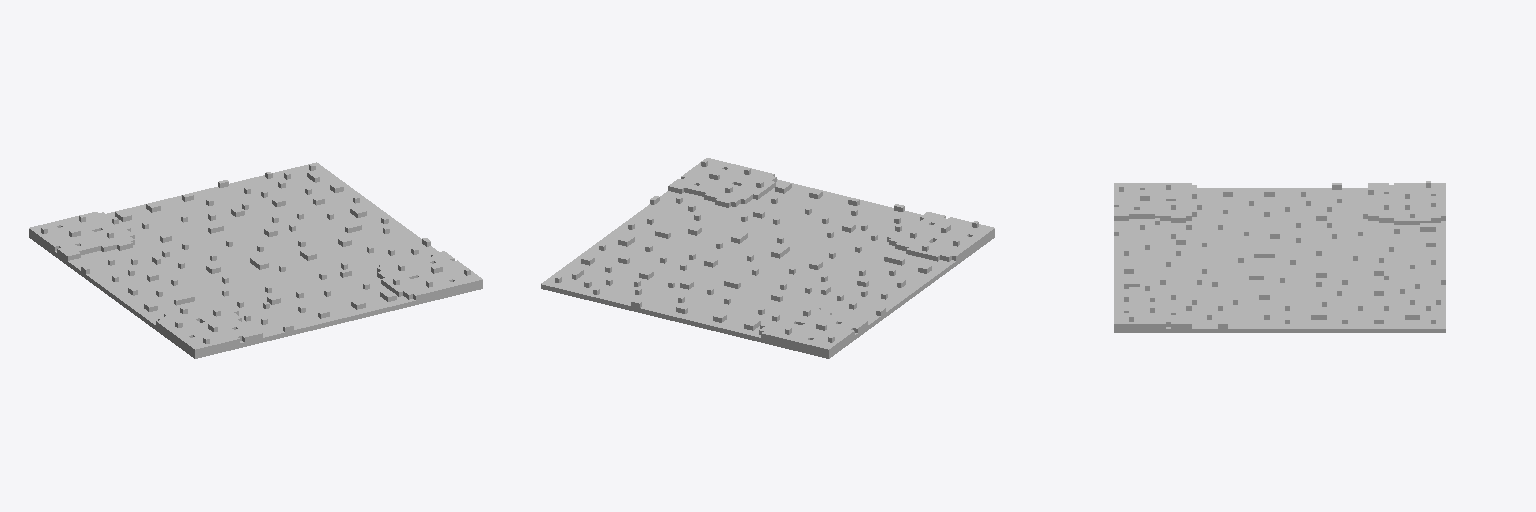
Rendered from EarthenPath4Fork_2.obj.
3 renders of one model, left to right at view 1: azimuth 30°, elevation 25°; view 2: azimuth 150°, elevation 25°; view 3: azimuth 270°, elevation 25°, orthographic.
Parts seen in each view (by area): view 1: EarthenPath4Fork_2.001; view 2: EarthenPath4Fork_2.001; view 3: EarthenPath4Fork_2.001.
Boxes of the visible parts, <box> form: EarthenPath4Fork_2.001: <box>29,162,482,358</box>; EarthenPath4Fork_2.001: <box>541,158,994,358</box>; EarthenPath4Fork_2.001: <box>1114,181,1445,332</box>.
Size of the model in its own units: 1 by 0.0469 by 1.